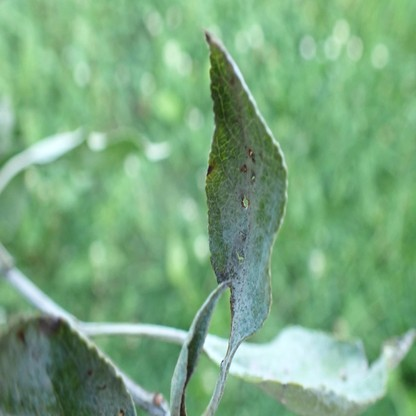powdery_mildew: (203, 30, 288, 337), (0, 314, 137, 414), (170, 282, 228, 416)
